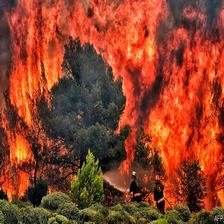fire: (1, 4, 219, 194)
